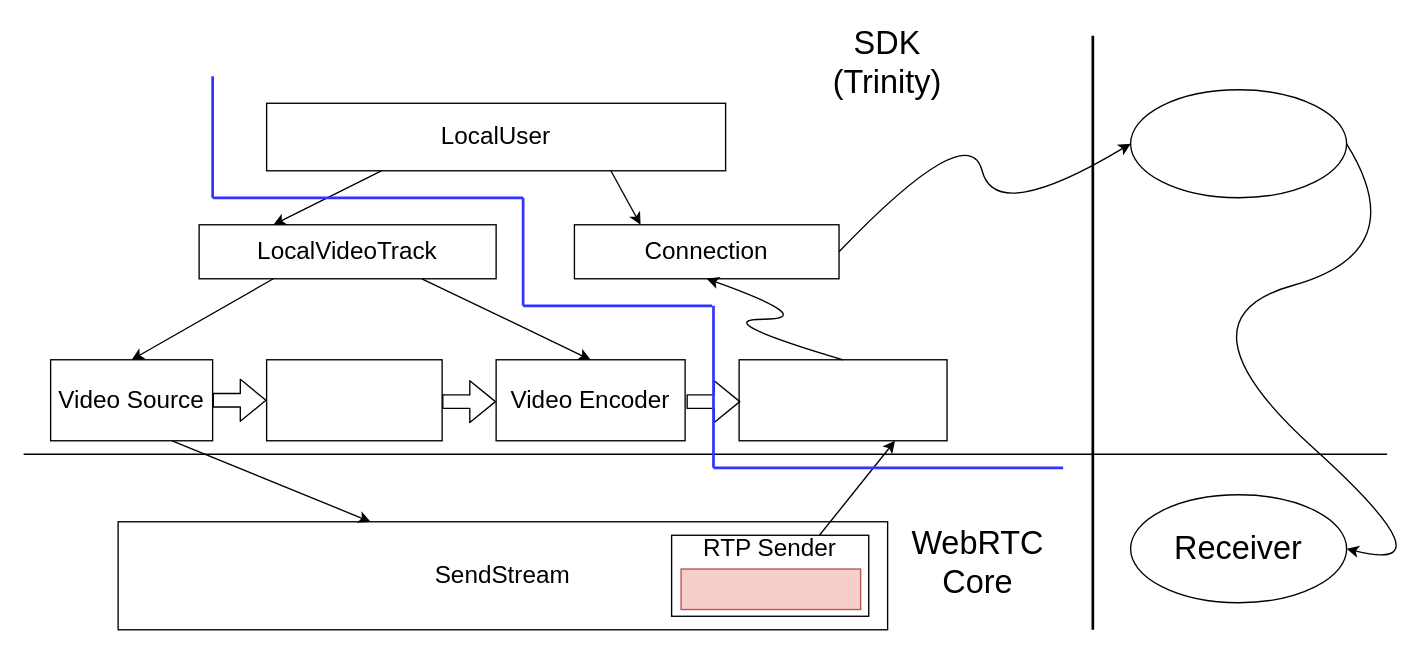
This 1420x653 diagram has some shape labels left out. Here are the shapes that lost their labels. From the top down, the centre of each, then its label:
At (1238,143): "SD-RTN".
At (353,399): "Video Filter".
At (842,399): "Network Sink".
At (770,589): "Transport Control".
